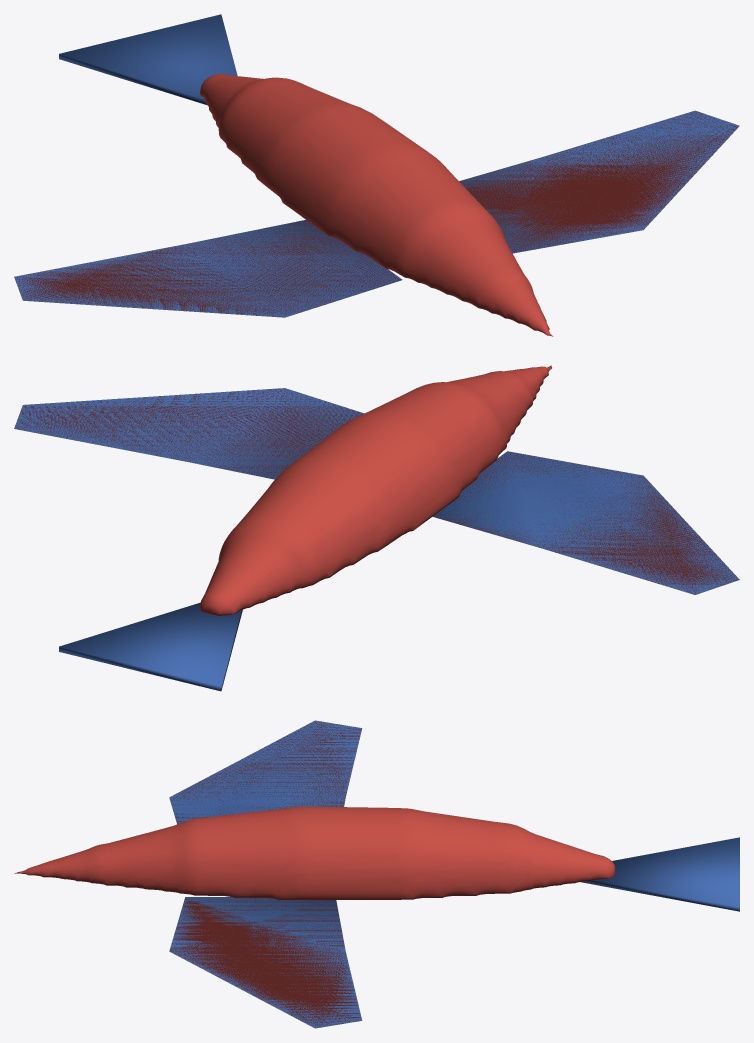
Rendered from ara.glb.
3 views of the same model, one above another, from view 1: azimuth 30°, elevation 25°; view 2: azimuth 150°, elevation 25°; view 3: azimuth 270°, elevation 25° (orthographic). The views are drawn at different scales.
Visible parts, largest first — view 1: lack; view 2: lack; view 3: lack.
Boxes of the visible parts, x1=… form: lack: x1=14, y1=14, x2=739, y2=336; lack: x1=14, y1=365, x2=739, y2=691; lack: x1=14, y1=720, x2=739, y2=1028.
Size of the model in its own units: 1.05 by 0.1014 by 1.05.
